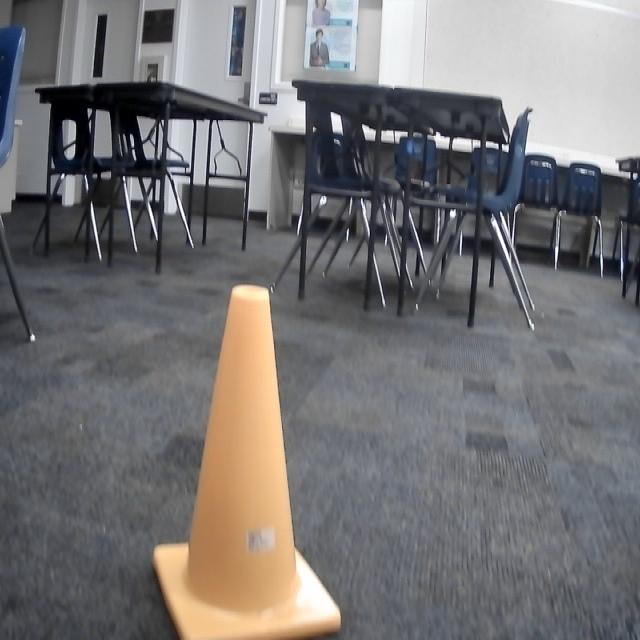cone: (152, 278, 343, 640)
